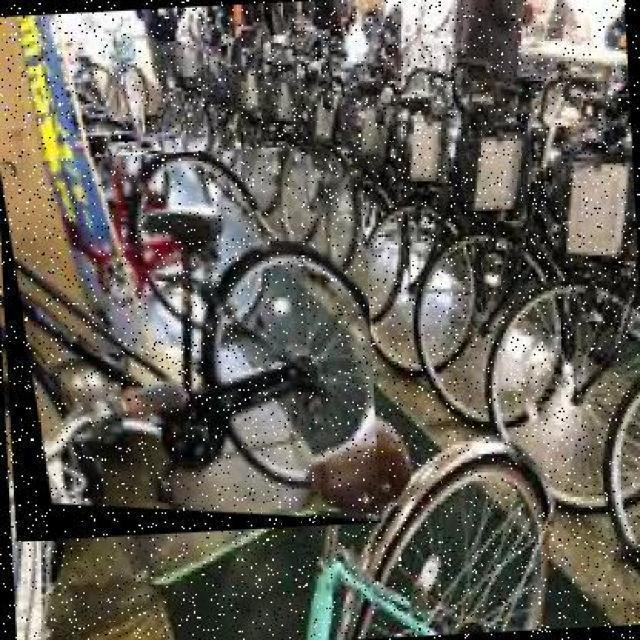bicycle: (1, 144, 381, 546)
